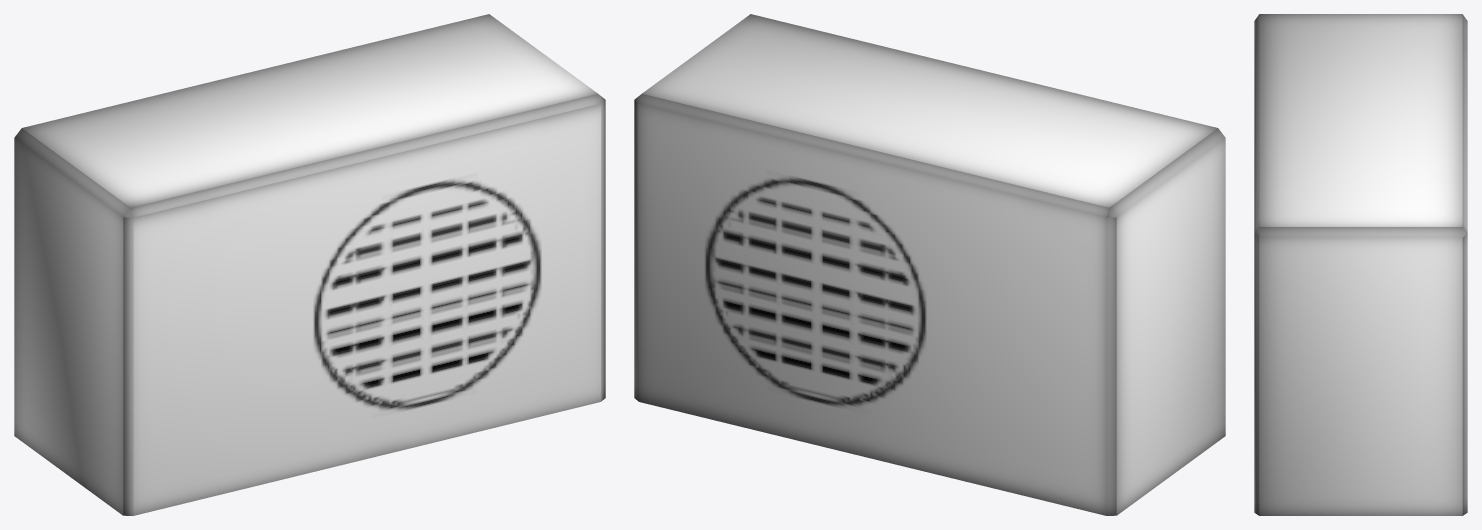
File: AirConditioner.fbx
3 renders of one model, left to right at view 1: azimuth 30°, elevation 25°; view 2: azimuth 150°, elevation 25°; view 3: azimuth 270°, elevation 25°, orthographic. The views are drawn at different scales.
Visible parts, largest first — view 1: Plane.034; view 2: Plane.034; view 3: Plane.034.
Part boxes in pixels (<box>): Plane.034: <box>14,14,605,515</box>; Plane.034: <box>634,14,1225,515</box>; Plane.034: <box>1254,14,1467,515</box>.
Size of the model in its own units: 58.79 by 35.65 by 24.16.
